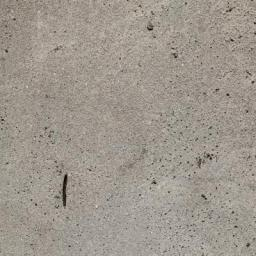FOD: (59, 174, 73, 209)
